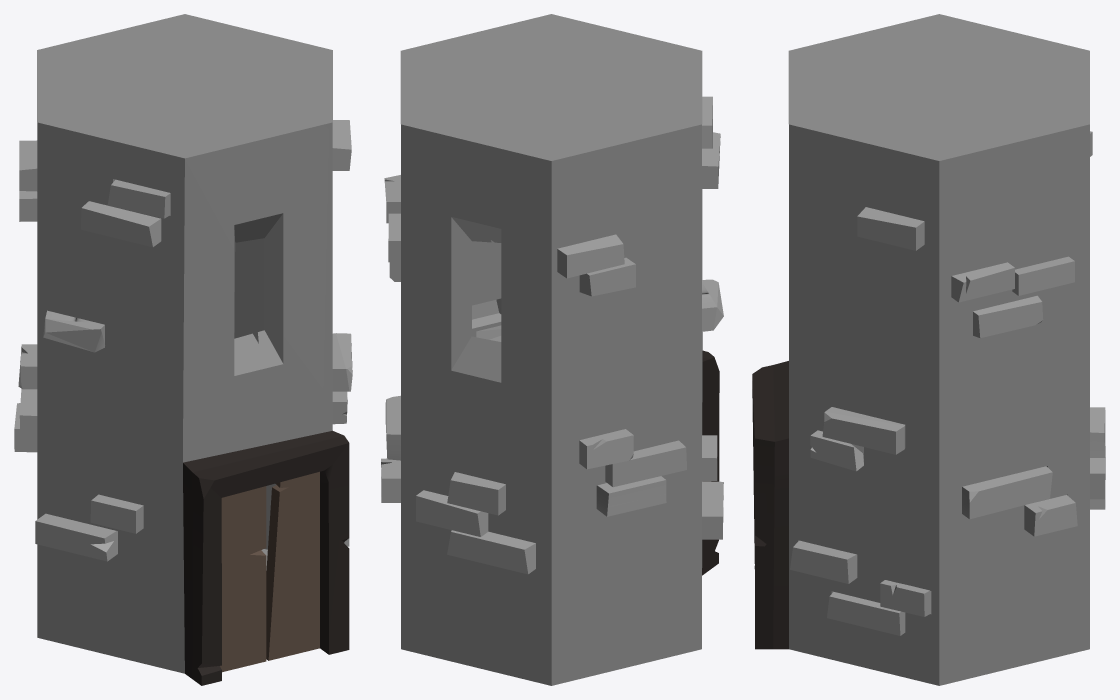
The model's file is towerMiddlePart.fbx.
3 renders of one model, left to right at view 1: azimuth 30°, elevation 25°; view 2: azimuth 150°, elevation 25°; view 3: azimuth 270°, elevation 25°, orthographic.
Parts seen in each view (by area): view 1: Cylinder; view 2: Cylinder; view 3: Cylinder.
Part boxes in pixels (x1,y1,x2,y2): Cylinder: (14,14,352,685); Cylinder: (381,14,723,685); Cylinder: (752,14,1105,685).
Bounding box in the file's own units: 1268 × 2000 × 1221.
